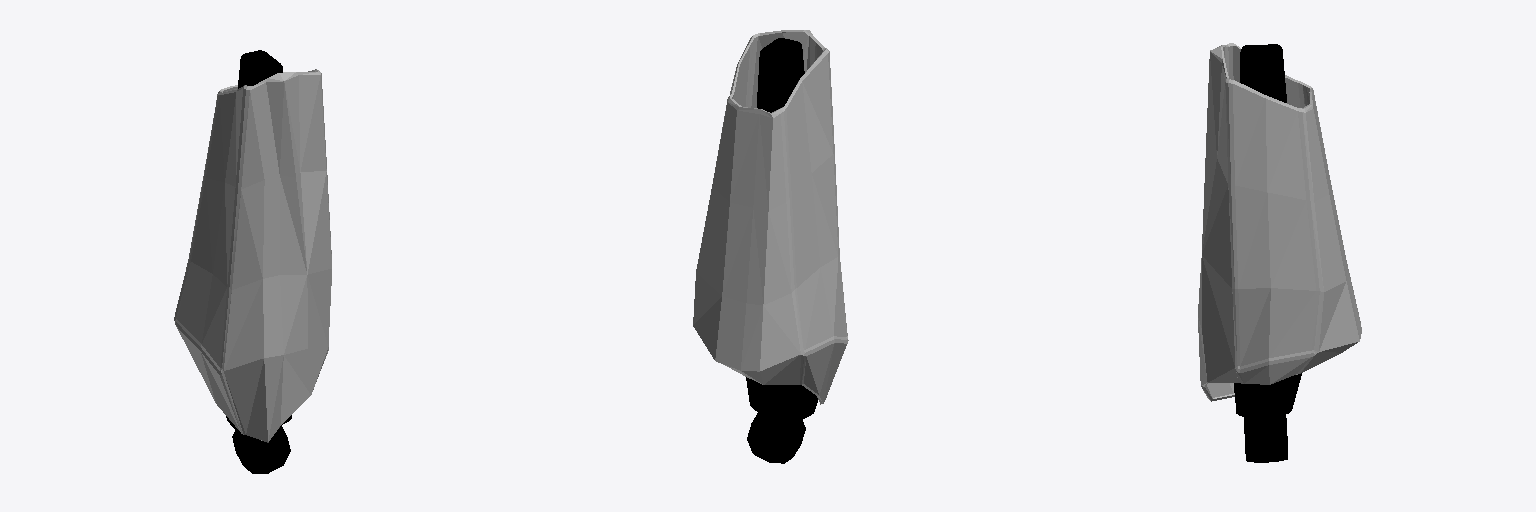
The model's file is Upper_Leg_Left.obj.
3 views of the same model, side by side, from view 1: azimuth 30°, elevation 25°; view 2: azimuth 150°, elevation 25°; view 3: azimuth 270°, elevation 25° (orthographic).
Visible parts, largest first — view 1: upper_leg_left, joint_upper_leg_left; view 2: upper_leg_left, joint_upper_leg_left; view 3: upper_leg_left, joint_upper_leg_left.
Part boxes in pixels (bbox=[...]): upper_leg_left: bbox=[174, 69, 331, 442]; joint_upper_leg_left: bbox=[226, 50, 291, 473]; upper_leg_left: bbox=[693, 30, 848, 404]; joint_upper_leg_left: bbox=[746, 38, 817, 463]; upper_leg_left: bbox=[1198, 43, 1361, 401]; joint_upper_leg_left: bbox=[1234, 44, 1301, 462].
Size of the model in its own units: 0.3137 by 1.01 by 0.3654.